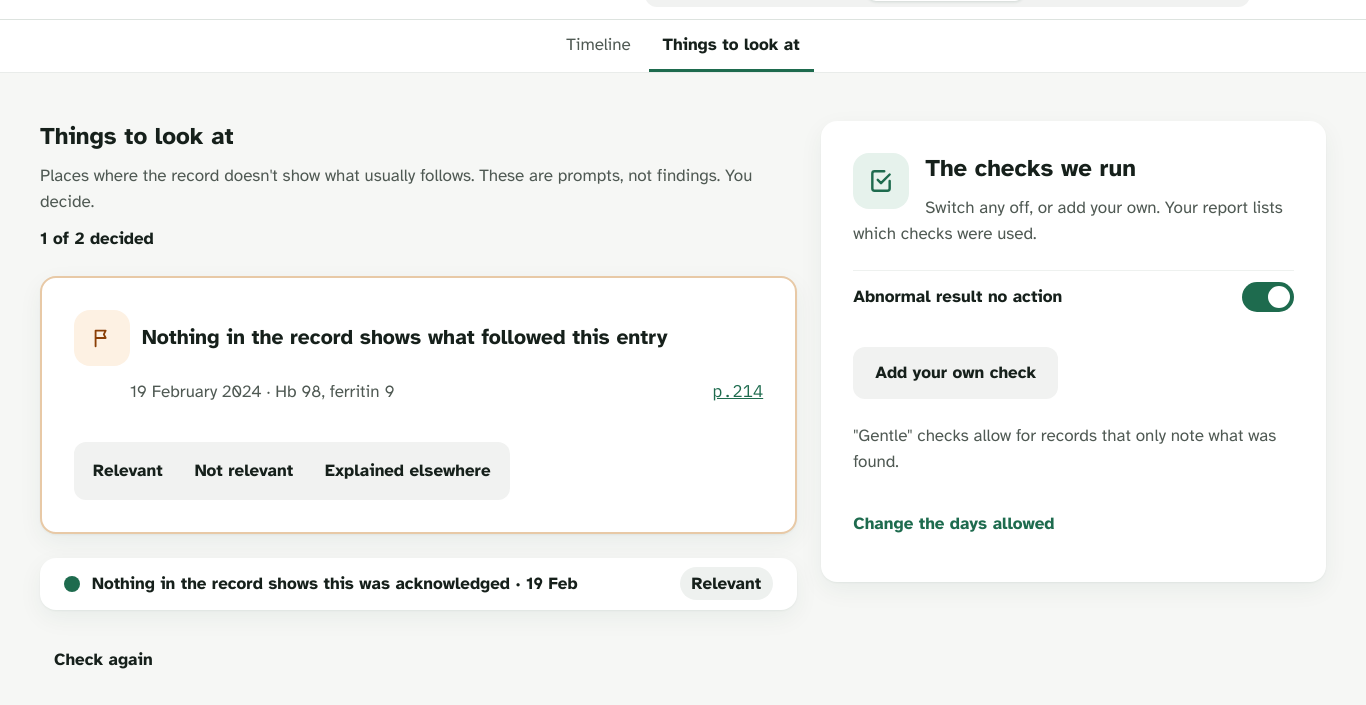
Test: the reason can be dictated
Click the button "Not relevant" at (244, 470), box [179,444,309,496]
(page scrolled)
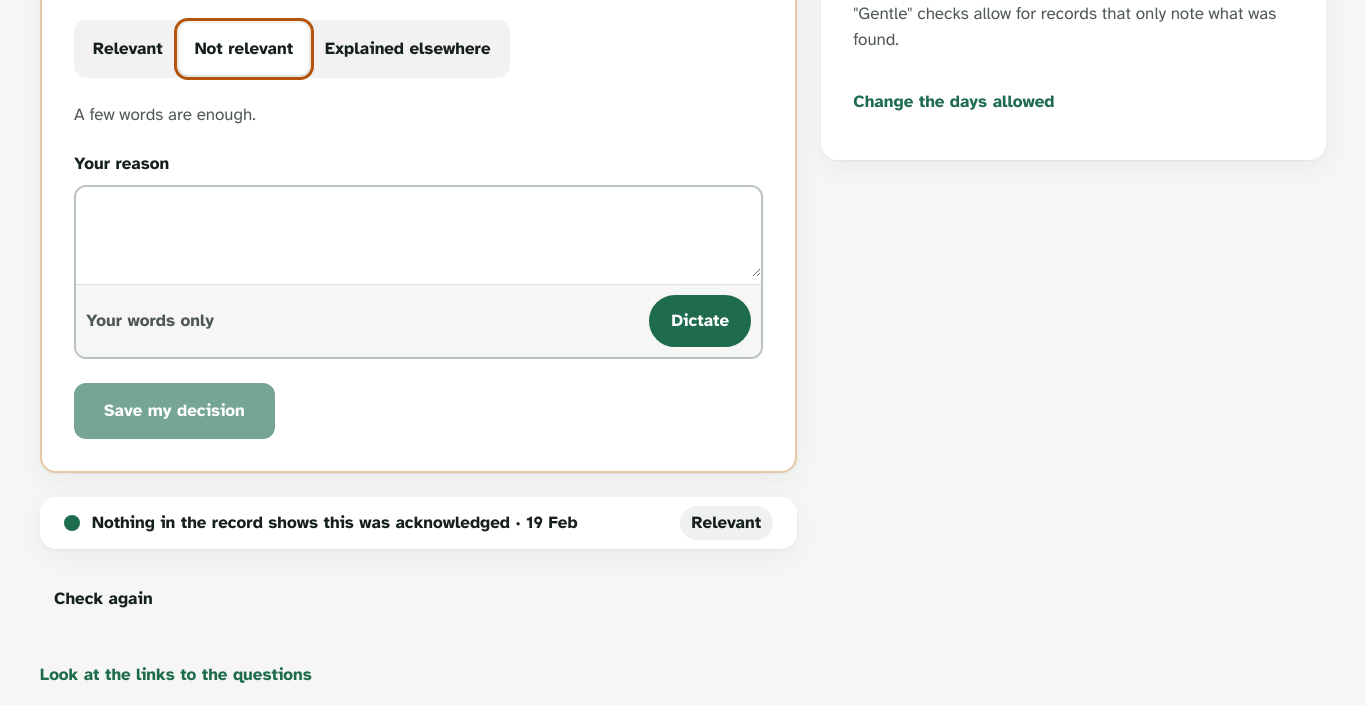
Check: the button "Dictate" is shown, box [649,295,751,347]
